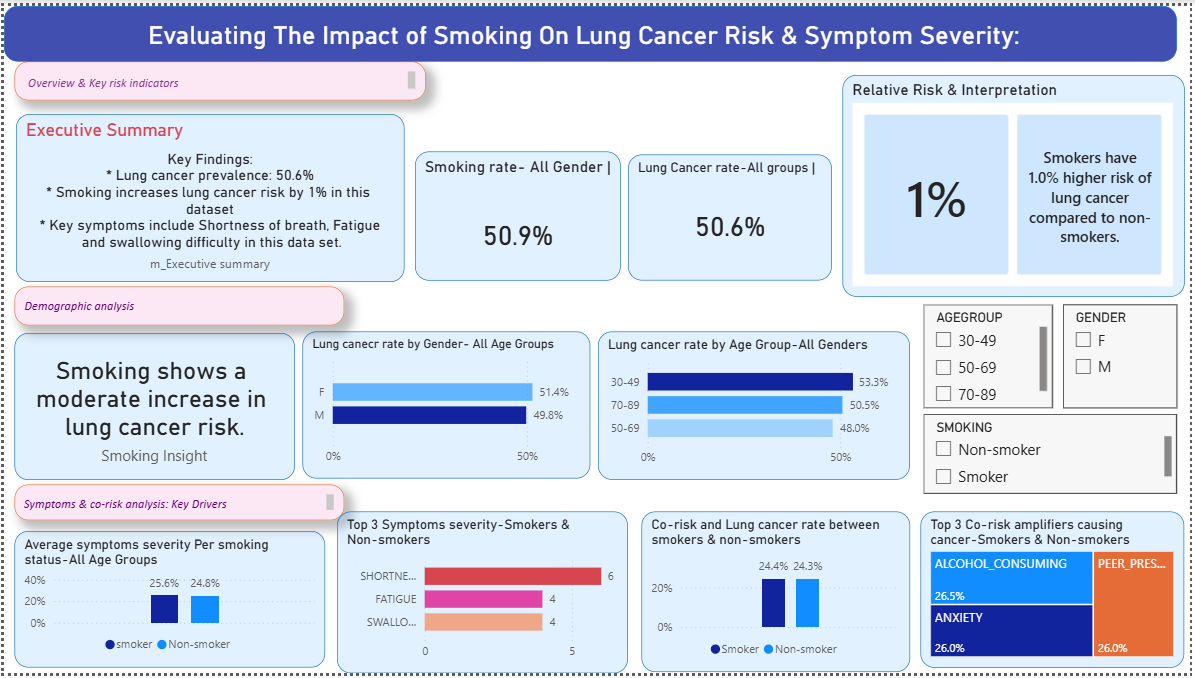

This screenshot's page, from the dashboard's own definition file:
{"tool":"powerbi","page":{"name":"Overview","canvas":[1280,720],"ordinal":0},"visuals":[{"type":"card","fields":{"Values":["MEASURES ANALYSIS.m_Lungcancer_rate"]},"box":[673.6,160.3,220.2,136],"z":0},{"type":"card","fields":{"Values":["MEASURES ANALYSIS.m_Smoking Insight"]},"box":[11.3,353,302.8,158.7],"z":1000},{"type":"cardVisual","title":"Relative Risk & Interpretation","fields":{"Data":["MEASURES ANALYSIS.m_Relative Risk difference","MEASURES ANALYSIS.m_Relative Risk Explanation"]},"box":[905.1,74.5,369.2,239.6],"z":2000},{"type":"textbox","box":[11.3,59.9,443.7,42.1],"z":3000},{"type":"clusteredBarChart","fields":{"Category":["DIM_GENDER.GENDER"],"Y":["MEASURES ANALYSIS.m_Lungcancer_rate"]},"box":[322.2,351.4,310.9,158.7],"z":4000},{"type":"clusteredBarChart","fields":{"Category":["DIM_AGEGROUP.AGEGROUP"],"Y":["MEASURES ANALYSIS.m_Lungcancer_rate"]},"box":[641.2,351.4,336.8,160.3],"z":5000},{"type":"textbox","box":[11.3,302.8,356.2,42.1],"z":6000},{"type":"card","title":"Executive Summary","fields":{"Values":["MEASURES ANALYSIS.m_Executive summary"]},"box":[13,116.6,419.4,181.4],"z":7000},{"type":"card","fields":{"Values":["MEASURES ANALYSIS.m_Smoking Rate"]},"box":[443.7,157.1,221.8,139.3],"z":8000},{"type":"clusteredColumnChart","fields":{"Y":["MEASURES ANALYSIS.Average-Smoker_symptom severity","MEASURES ANALYSIS.Avg.Non-smoker_symptom severity"]},"box":[11.3,566.7,335.2,147.3],"z":9000},{"type":"clusteredColumnChart","title":"Co-risk and Lung cancer rate between smokers & non-smokers","fields":{"Y":["MEASURES ANALYSIS.m_smoking_Co-risk_lung cancer%","MEASURES ANALYSIS.m_Non-smoker_co-risk_lung cancer rate"]},"box":[688.2,545.7,289.8,173.3],"z":10000},{"type":"textbox","box":[11.3,516.5,356.2,38.9],"z":11000},{"type":"clusteredBarChart","fields":{"Category":["DIM_SYMPTOMS.SYMPTOMS"],"Y":["MEASURES ANALYSIS.m_Severity ranking"]},"box":[359.5,545.7,314.1,174.9],"z":12000},{"type":"slicer","fields":{"Values":["DIM_GENDER.GENDER"]},"box":[1143.2,322.2,123.1,111.7],"z":13000},{"type":"slicer","fields":{"Values":["DIM_AGEGROUP.AGEGROUP"]},"box":[992.6,322.2,139.3,111.7],"z":14000},{"type":"slicer","fields":{"Values":["DIM_SMOKING.SMOKING"]},"box":[992.6,440.4,273.6,85.8],"z":15000},{"type":"treemap","fields":{"Group":["DIM_CORISK_AMPLIFIERS.CO_RISK_AMPLIFIERS"],"Values":["MEASURES ANALYSIS.Co-risk_Lung cancer%"]},"box":[989.3,545.7,285,168.4],"z":16000},{"type":"card","fields":{"Values":["MEASURES ANALYSIS.DT_Main Tilte"]},"box":[0,0,1266.2,59.9],"z":17000}]}

Visuals, with their boxes in screenshot pixels (x1, y1, x2, y2), scaled from the page's 1280x720 canvas onto the 1195x678 screenshot:
card - MEASURES ANALYSIS.m_Lungcancer_rate: [x1=629, y1=151, x2=834, y2=279]
card - MEASURES ANALYSIS.m_Smoking Insight: [x1=11, y1=332, x2=293, y2=482]
"Relative Risk & Interpretation" cardVisual: [x1=845, y1=70, x2=1190, y2=296]
textbox: [x1=11, y1=56, x2=425, y2=96]
clusteredBarChart - DIM_GENDER.GENDER x MEASURES ANALYSIS.m_Lungcancer_rate: [x1=301, y1=331, x2=591, y2=480]
clusteredBarChart - DIM_AGEGROUP.AGEGROUP x MEASURES ANALYSIS.m_Lungcancer_rate: [x1=599, y1=331, x2=913, y2=482]
textbox: [x1=11, y1=285, x2=343, y2=325]
"Executive Summary" card: [x1=12, y1=110, x2=404, y2=281]
card - MEASURES ANALYSIS.m_Smoking Rate: [x1=414, y1=148, x2=621, y2=279]
clusteredColumnChart - MEASURES ANALYSIS.Average-Smoker_symptom severity x MEASURES ANALYSIS.Avg.Non-smoker_symptom severity: [x1=11, y1=534, x2=323, y2=672]
"Co-risk and Lung cancer rate between smokers & non-smokers" clusteredColumnChart: [x1=642, y1=514, x2=913, y2=677]
textbox: [x1=11, y1=486, x2=343, y2=523]
clusteredBarChart - DIM_SYMPTOMS.SYMPTOMS x MEASURES ANALYSIS.m_Severity ranking: [x1=336, y1=514, x2=629, y2=677]
slicer - DIM_GENDER.GENDER: [x1=1067, y1=303, x2=1182, y2=409]
slicer - DIM_AGEGROUP.AGEGROUP: [x1=927, y1=303, x2=1057, y2=409]
slicer - DIM_SMOKING.SMOKING: [x1=927, y1=415, x2=1182, y2=496]
treemap - DIM_CORISK_AMPLIFIERS.CO_RISK_AMPLIFIERS x MEASURES ANALYSIS.Co-risk_Lung cancer%: [x1=924, y1=514, x2=1190, y2=672]
card - MEASURES ANALYSIS.DT_Main Tilte: [x1=0, y1=0, x2=1182, y2=56]
